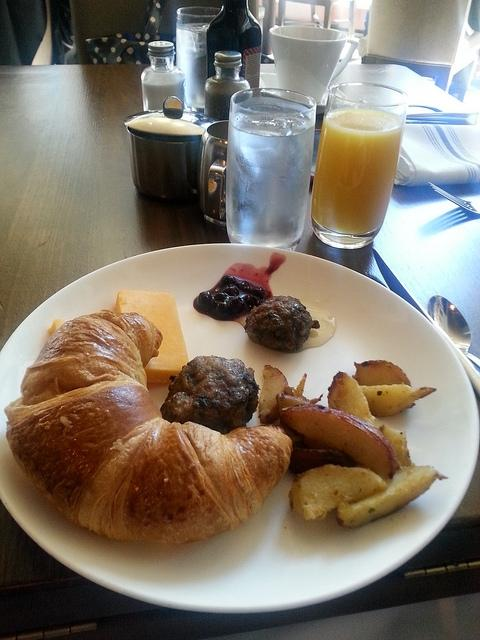potato: (282, 404, 396, 480), (336, 462, 449, 528), (288, 464, 388, 521), (327, 371, 378, 425), (359, 382, 437, 417), (258, 365, 290, 425), (288, 446, 356, 474), (352, 360, 412, 387), (378, 424, 412, 467), (276, 393, 310, 418)
